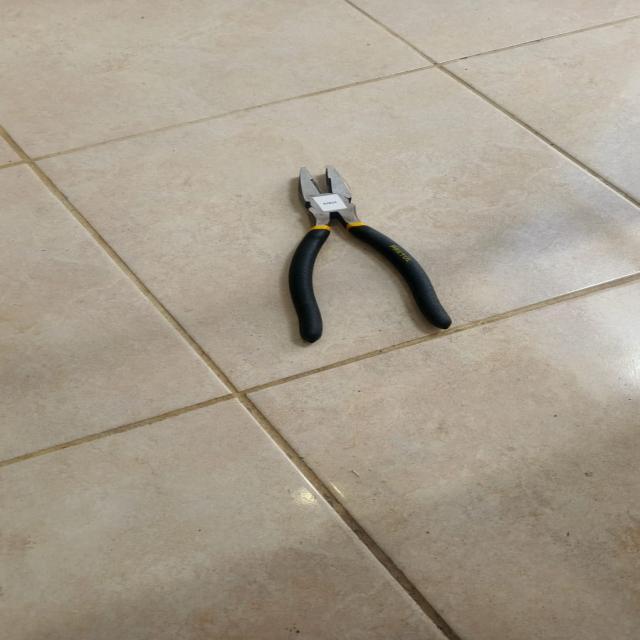alicate: (263, 144, 461, 364)
